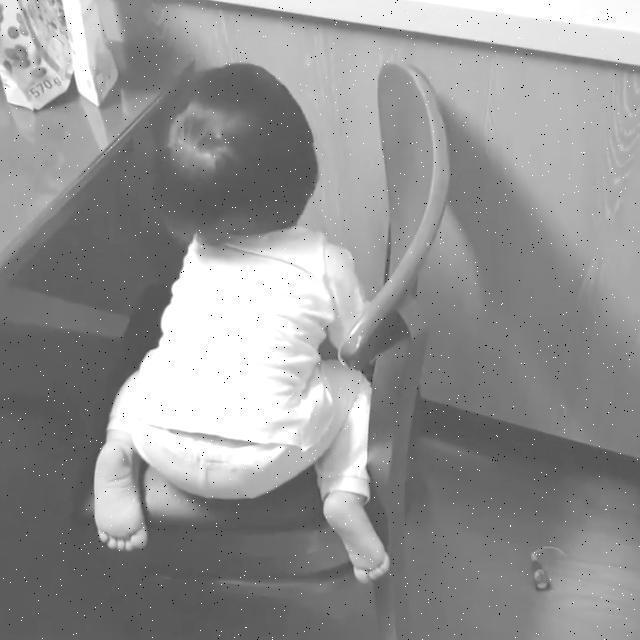child: (95, 70, 392, 584)
